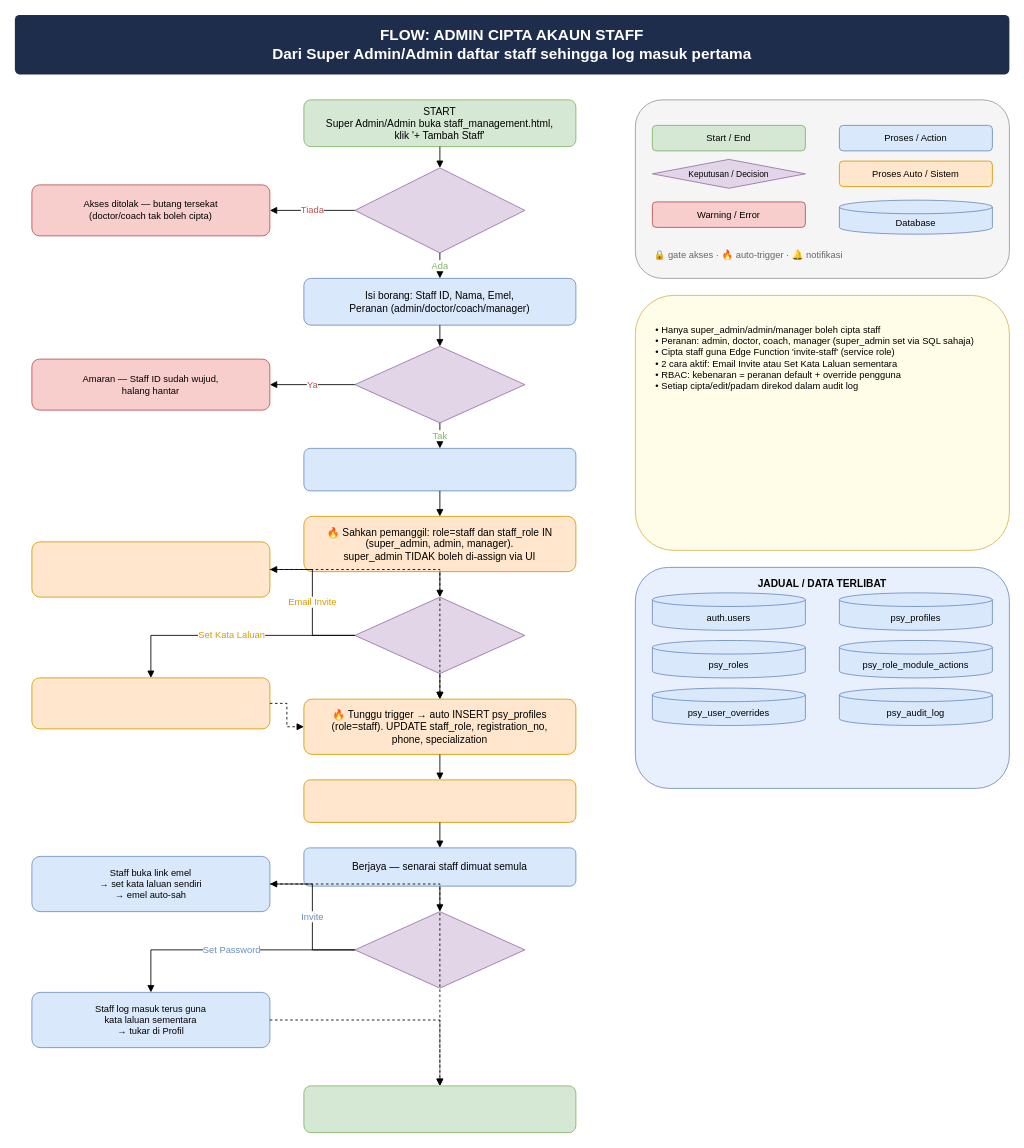
The diagram is 1024 pixels wide and 1148 high, and some of its shapes have lost their labels. The shapes that lost their labels are listed below. From the top down, each one's box as (x1, y1, x2, y2) in pixels, then its label:
(635, 99, 1009, 278): PETUNJUK
(354, 167, 525, 253): Ada kebenaran staff.create? (super_admin/admin/manager)
(354, 346, 525, 423): Staff ID berulang?
(635, 295, 1009, 550): NOTA PENTING
(303, 448, 576, 491): callEdgeFn(action=create) → Edge Function invite-staff
(31, 541, 270, 597): 🔥 inviteUserByEmail() → Supabase hantar emel link set kata laluan
(354, 596, 525, 674): Cara aktif akaun?
(31, 677, 270, 729): 🔥 createUser(emel, password, email_confirm=true)
(303, 779, 576, 822): 🔥 INSERT psy_audit_log (action=staff.invited)
(354, 911, 525, 988): Laluan log masuk pertama?
(303, 1085, 576, 1133): Staff log masuk → akses ikut RBAC peranan
